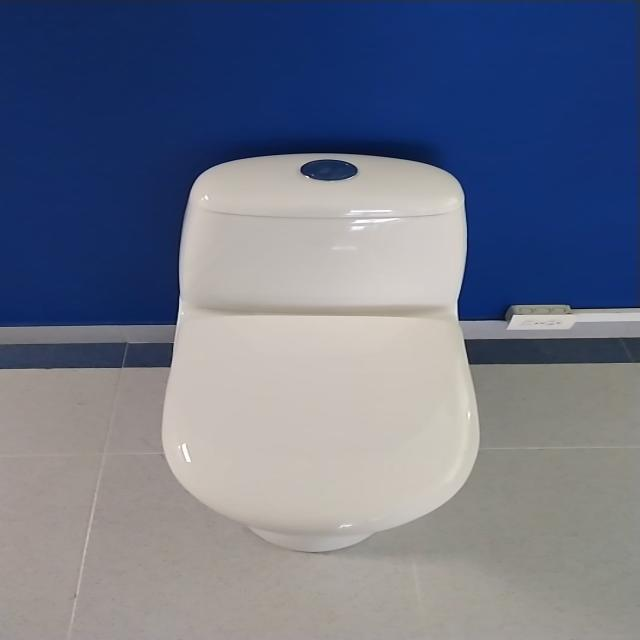toilet: (159, 152, 482, 552)
